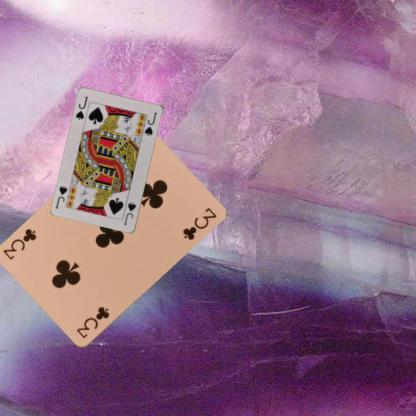3c: (73, 304, 111, 340)
Js: (122, 199, 138, 226), (74, 95, 90, 122)
